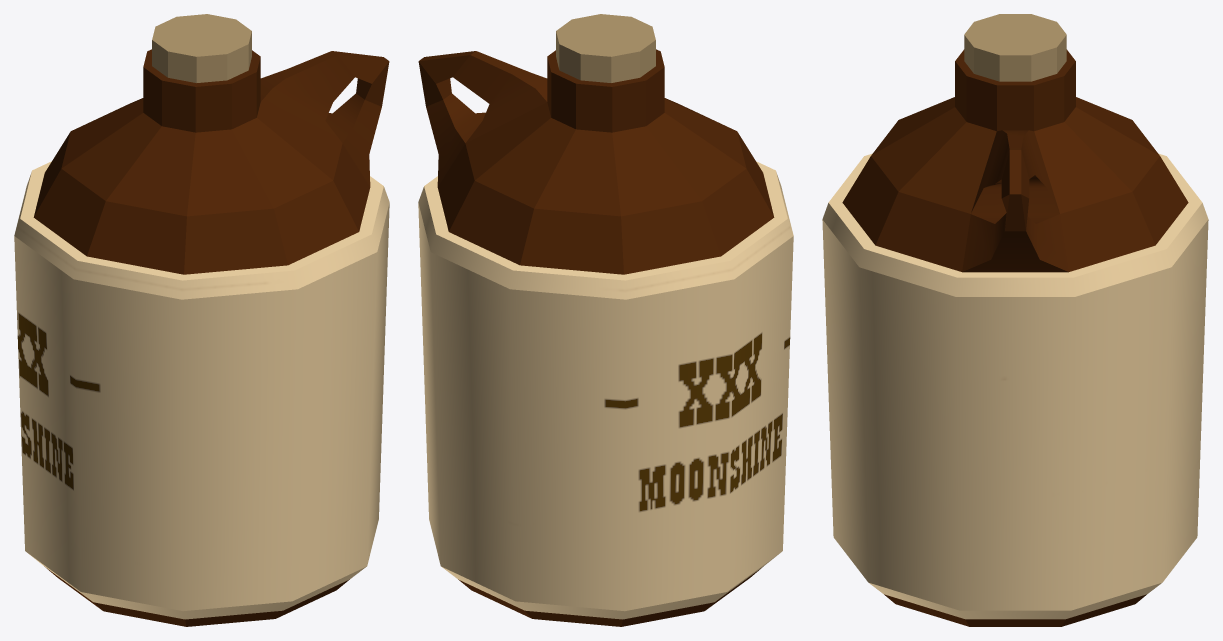
The model's file is Moonshine.fbx.
The picture shows the model from 3 angles, left to right: view 1: azimuth 30°, elevation 25°; view 2: azimuth 150°, elevation 25°; view 3: azimuth 270°, elevation 25°; orthographic projection.
Visible parts, largest first — view 1: moonshine; view 2: moonshine; view 3: moonshine.
Part boxes in pixels (bbox=[...]): moonshine: bbox=[14, 14, 389, 626]; moonshine: bbox=[418, 14, 793, 626]; moonshine: bbox=[822, 14, 1208, 626].
Bounding box in the file's own units: 1.07 × 1.58 × 1.03.
